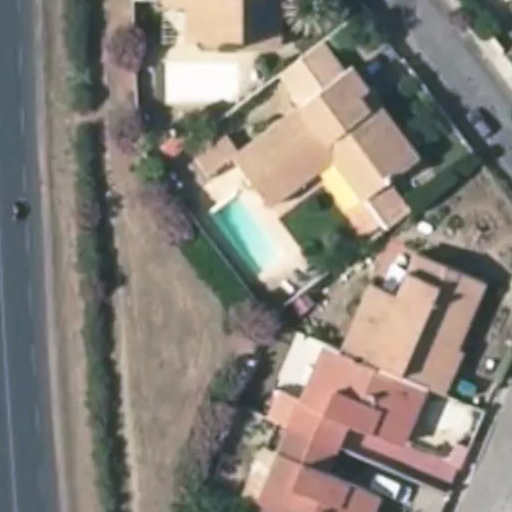pool: (217, 221, 293, 263)
